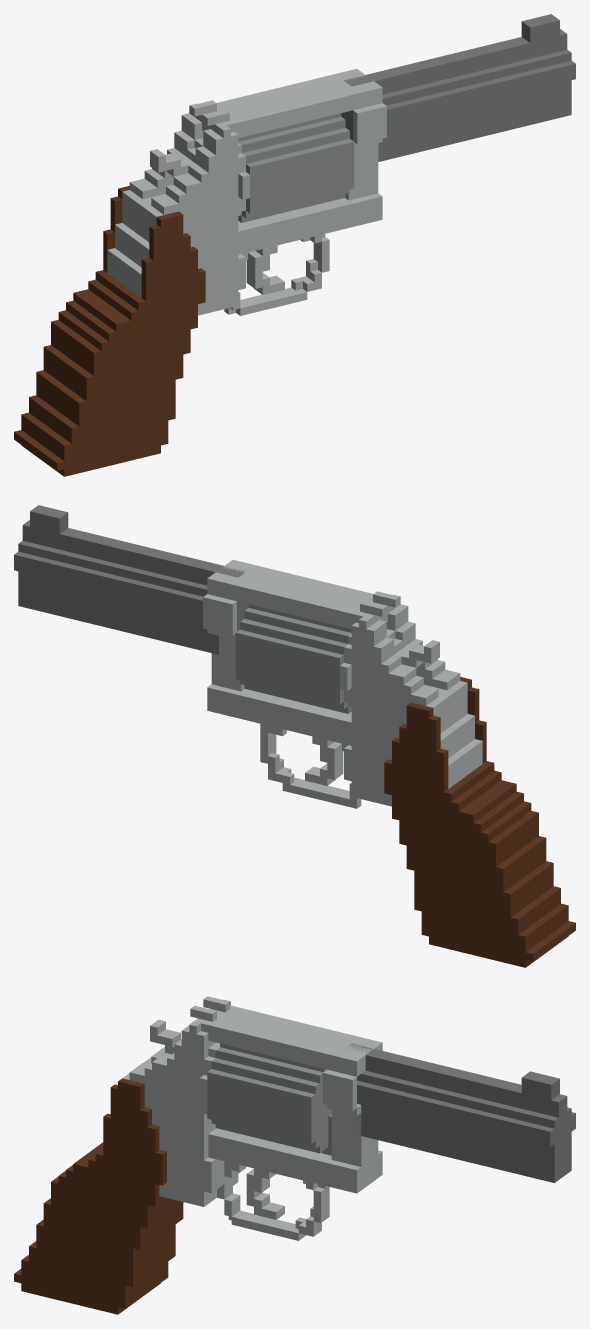
The model's file is revolver.glb.
The picture shows the model from 3 angles, top to bottom: view 1: azimuth 30°, elevation 25°; view 2: azimuth 150°, elevation 25°; view 3: azimuth 330°, elevation 25°; orthographic projection.
Visible parts, largest first — view 1: frame:revolver-frame, grip:revolver-grip, barrel:revolver-barrel, cylinder:revolver-cylinder, trigger:revolver-trigger, hammer:revolver-hammer; view 2: frame:revolver-frame, grip:revolver-grip, barrel:revolver-barrel, cylinder:revolver-cylinder, trigger:revolver-trigger, hammer:revolver-hammer; view 3: frame:revolver-frame, grip:revolver-grip, barrel:revolver-barrel, cylinder:revolver-cylinder, trigger:revolver-trigger, hammer:revolver-hammer.
Part boxes in pixels (box(x1,y1,x2,y2)): frame:revolver-frame: box(107, 68, 386, 315); grip:revolver-grip: box(14, 186, 205, 476); barrel:revolver-barrel: box(341, 14, 575, 161); cylinder:revolver-cylinder: box(238, 113, 354, 222); trigger:revolver-trigger: box(246, 245, 284, 294); hammer:revolver-hammer: box(150, 138, 203, 176); frame:revolver-frame: box(203, 559, 482, 808); grip:revolver-grip: box(384, 677, 575, 967); barrel:revolver-barrel: box(14, 505, 248, 654); cylinder:revolver-cylinder: box(235, 604, 351, 713); trigger:revolver-trigger: box(305, 736, 343, 785); hammer:revolver-hammer: box(386, 629, 439, 667); frame:revolver-frame: box(123, 996, 382, 1240); grip:revolver-grip: box(14, 1078, 183, 1314); barrel:revolver-barrel: box(349, 1043, 575, 1182); cylinder:revolver-cylinder: box(207, 1043, 331, 1153); trigger:revolver-trigger: box(246, 1168, 284, 1219); hammer:revolver-hammer: box(150, 1019, 180, 1054).
Bounding box in the file's own units: 0.284 × 0.164 × 0.04.
